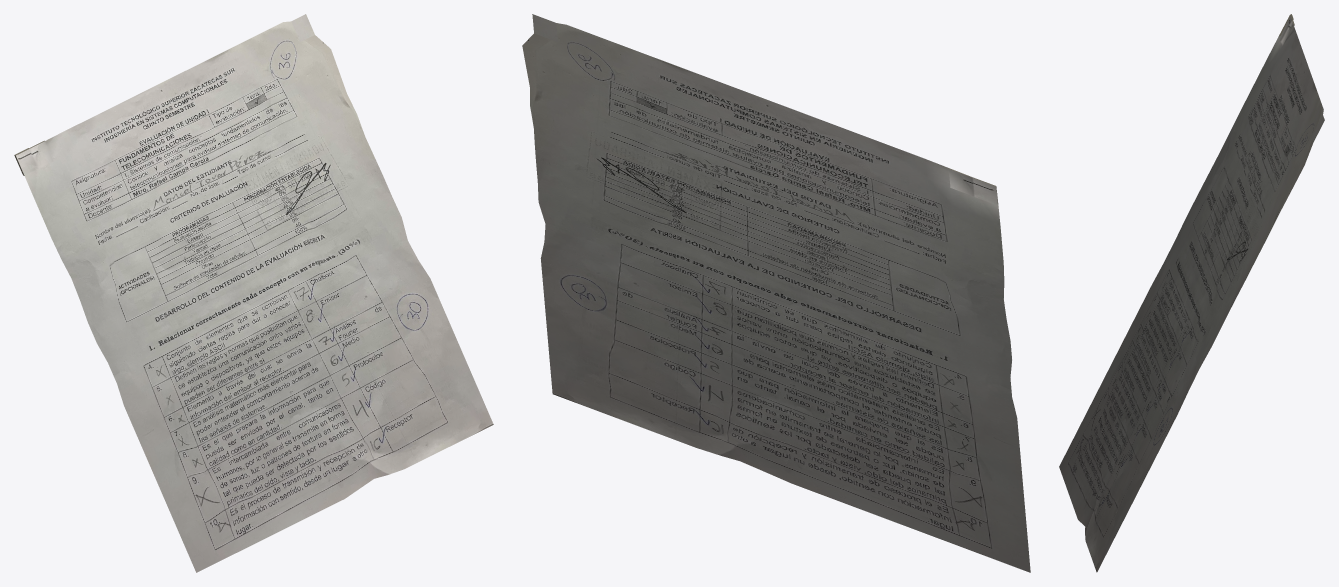
File: examen.fbx
3 views of the same model, side by side, from view 1: azimuth 30°, elevation 25°; view 2: azimuth 150°, elevation 25°; view 3: azimuth 270°, elevation 25° (orthographic). The views are drawn at different scales.
Parts seen in each view (by area): view 1: Examen_Organico; view 2: Examen_Organico; view 3: Examen_Organico.
Boxes of the visible parts, x1,y1,x2,y2 form: Examen_Organico: (14, 14, 493, 572); Examen_Organico: (522, 14, 1030, 572); Examen_Organico: (1059, 14, 1324, 572).
Bounding box in the file's own units: 3.32 × 3.37 × 1.72.
Materials: 1 (1 with a texture image).
